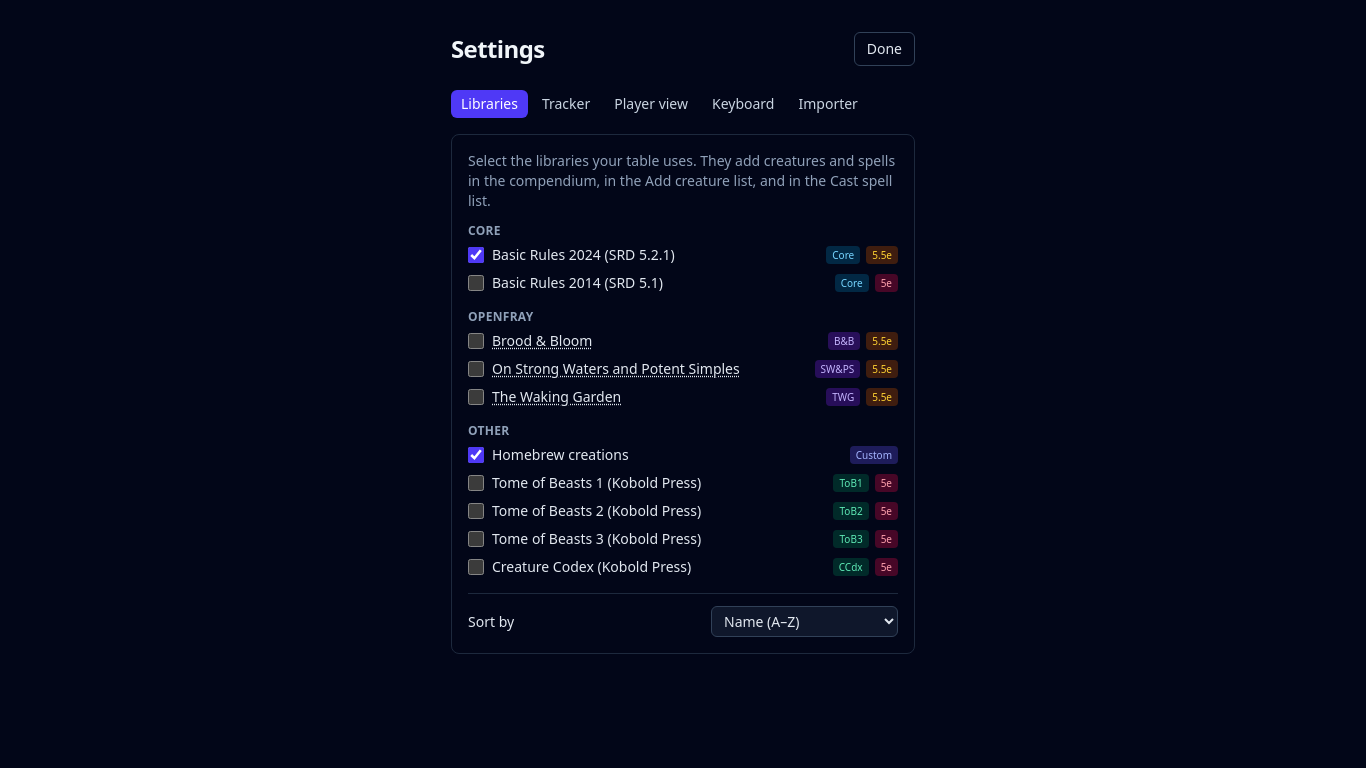
Test: SettingsPanel — tracker colors › shows default swatches and disables reset until a color is chosen
Step 1. Click the tab "Tracker" → (566, 104), box [532,90,600,118]
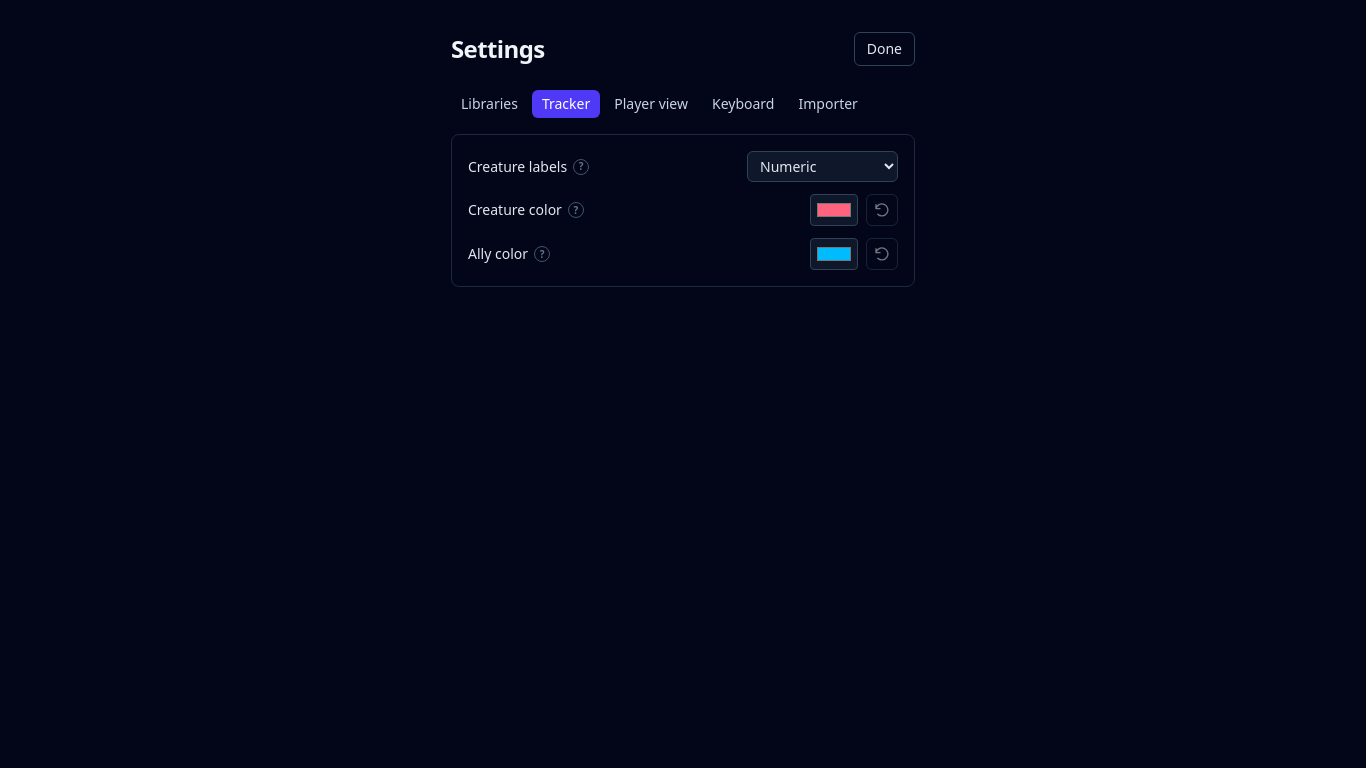
Now the colour field labelled "Creature color" holds "#ff637e", box [810,194,858,226]
Now the colour field labelled "Ally color" holds "#00bcff", box [810,238,858,270]
Now the button named "Reset creature color" is disabled, box [866,194,898,226]
